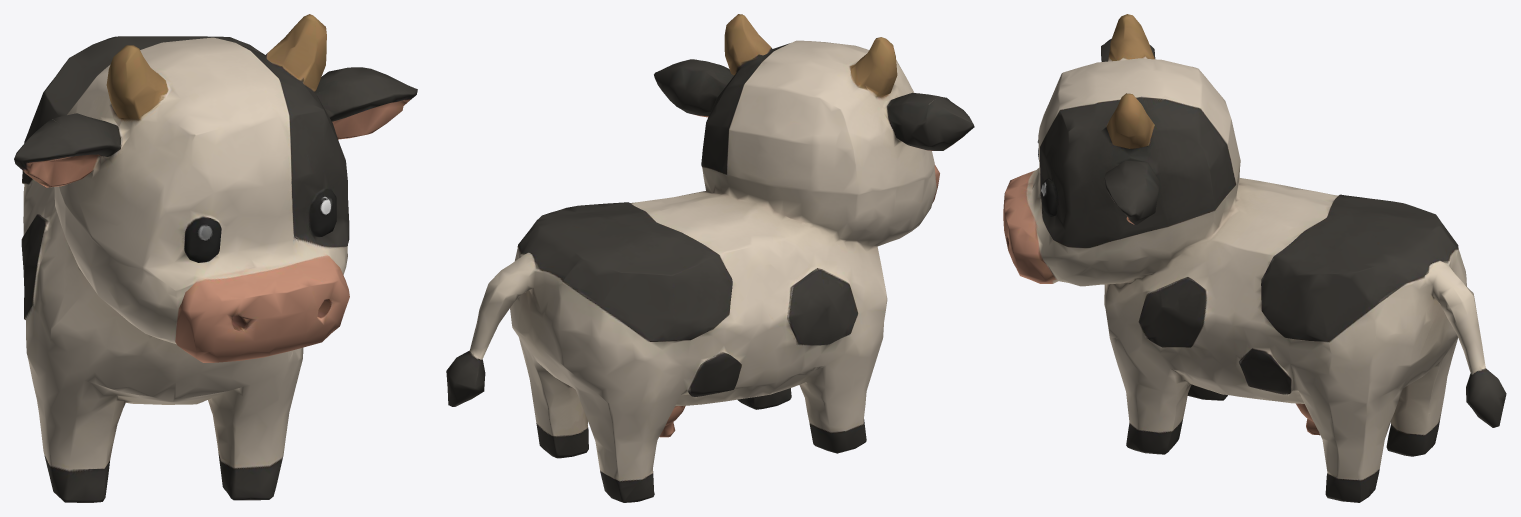
Rendered from cow.glb.
The picture shows the model from 3 angles, left to right: view 1: azimuth 30°, elevation 25°; view 2: azimuth 150°, elevation 25°; view 3: azimuth 270°, elevation 25°; orthographic projection. The views are drawn at different scales.
Parts seen in each view (by area): view 1: tripo_node_1d7ccd3e-f816-4619-881b-6692f268b02d; view 2: tripo_node_1d7ccd3e-f816-4619-881b-6692f268b02d; view 3: tripo_node_1d7ccd3e-f816-4619-881b-6692f268b02d.
Boxes of the visible parts, x1=… form: tripo_node_1d7ccd3e-f816-4619-881b-6692f268b02d: x1=14, y1=14, x2=417, y2=502; tripo_node_1d7ccd3e-f816-4619-881b-6692f268b02d: x1=446, y1=14, x2=974, y2=502; tripo_node_1d7ccd3e-f816-4619-881b-6692f268b02d: x1=1003, y1=14, x2=1506, y2=502.
Bounding box in the file's own units: 0.7903 × 0.8372 × 1.
1 material, 1 textured.
